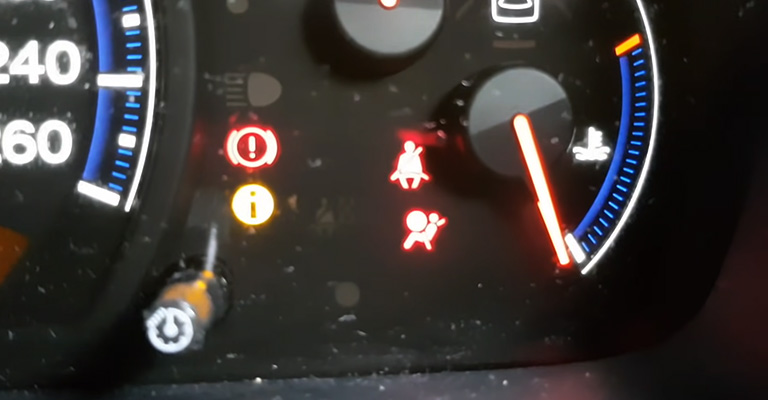Airbag_warning: (399, 205, 449, 256)
